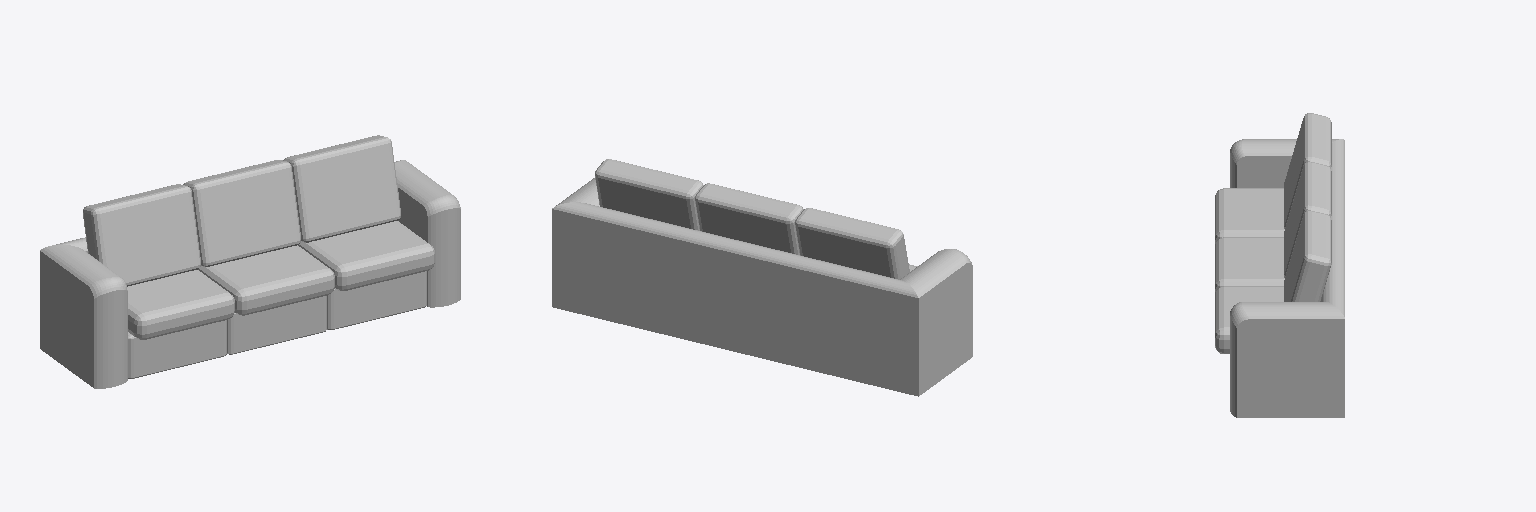
The model's file is sofa.obj.
The picture shows the model from 3 angles: view 1: azimuth 30°, elevation 25°; view 2: azimuth 150°, elevation 25°; view 3: azimuth 270°, elevation 25°; orthographic projection.
Visible parts, largest first — view 1: Sofa_base_Cube, top_center_Cube.003, top_right_Cube.003, top_left_Cube.003, middle_right_Cube.002, middle_center_Cube.002, middle_left_Cube.002, Bottom_left_Cube.001, Bottom_right_Cube.001, Bottom_center_Cube.001; view 2: Sofa_base_Cube, top_left_Cube.003, top_right_Cube.003, top_center_Cube.003; view 3: Sofa_base_Cube, middle_left_Cube.002, middle_center_Cube.002, top_right_Cube.003, top_center_Cube.003, top_left_Cube.003, middle_right_Cube.002.
Part boxes in pixels (x1,y1,x2,y2): Sofa_base_Cube: (40,160,460,388); top_center_Cube.003: (183,160,300,266); top_right_Cube.003: (283,135,400,242); top_left_Cube.003: (83,184,200,286); middle_right_Cube.002: (298,221,434,290); middle_center_Cube.002: (198,245,334,315); middle_left_Cube.002: (127,270,234,339); Bottom_left_Cube.001: (128,320,226,378); Bottom_right_Cube.001: (327,271,426,329); Bottom_center_Cube.001: (227,296,326,354); Sofa_base_Cube: (552,178,972,396); top_left_Cube.003: (795,208,909,279); top_right_Cube.003: (595,159,703,230); top_center_Cube.003: (695,183,803,254); Sofa_base_Cube: (1230,139,1344,417); middle_left_Cube.002: (1215,188,1284,243); middle_center_Cube.002: (1215,237,1284,291); top_right_Cube.003: (1284,211,1331,301); top_center_Cube.003: (1284,162,1331,277); top_left_Cube.003: (1284,113,1331,228); middle_right_Cube.002: (1215,286,1283,353).
Bounding box in the file's own units: 2.2 × 0.8261 × 0.6791.